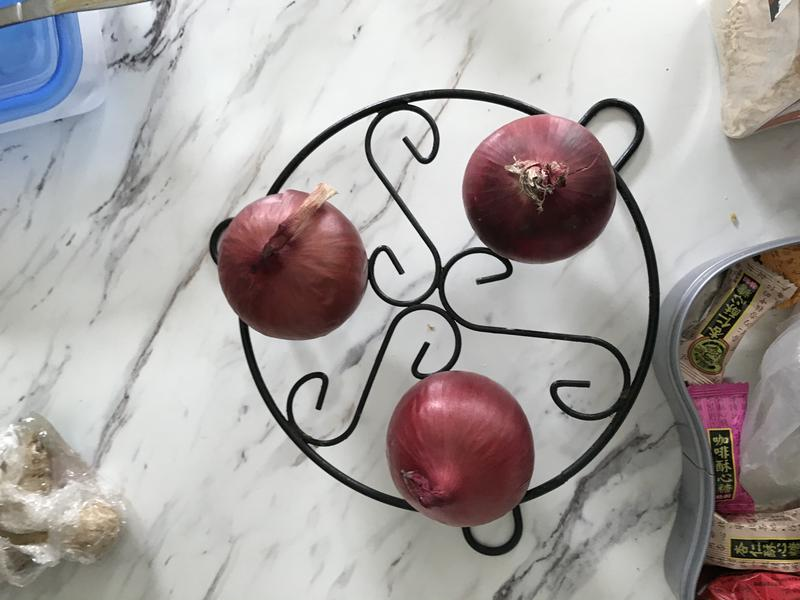purple_onion: (211, 179, 374, 353), (453, 108, 624, 272), (380, 366, 543, 535)
